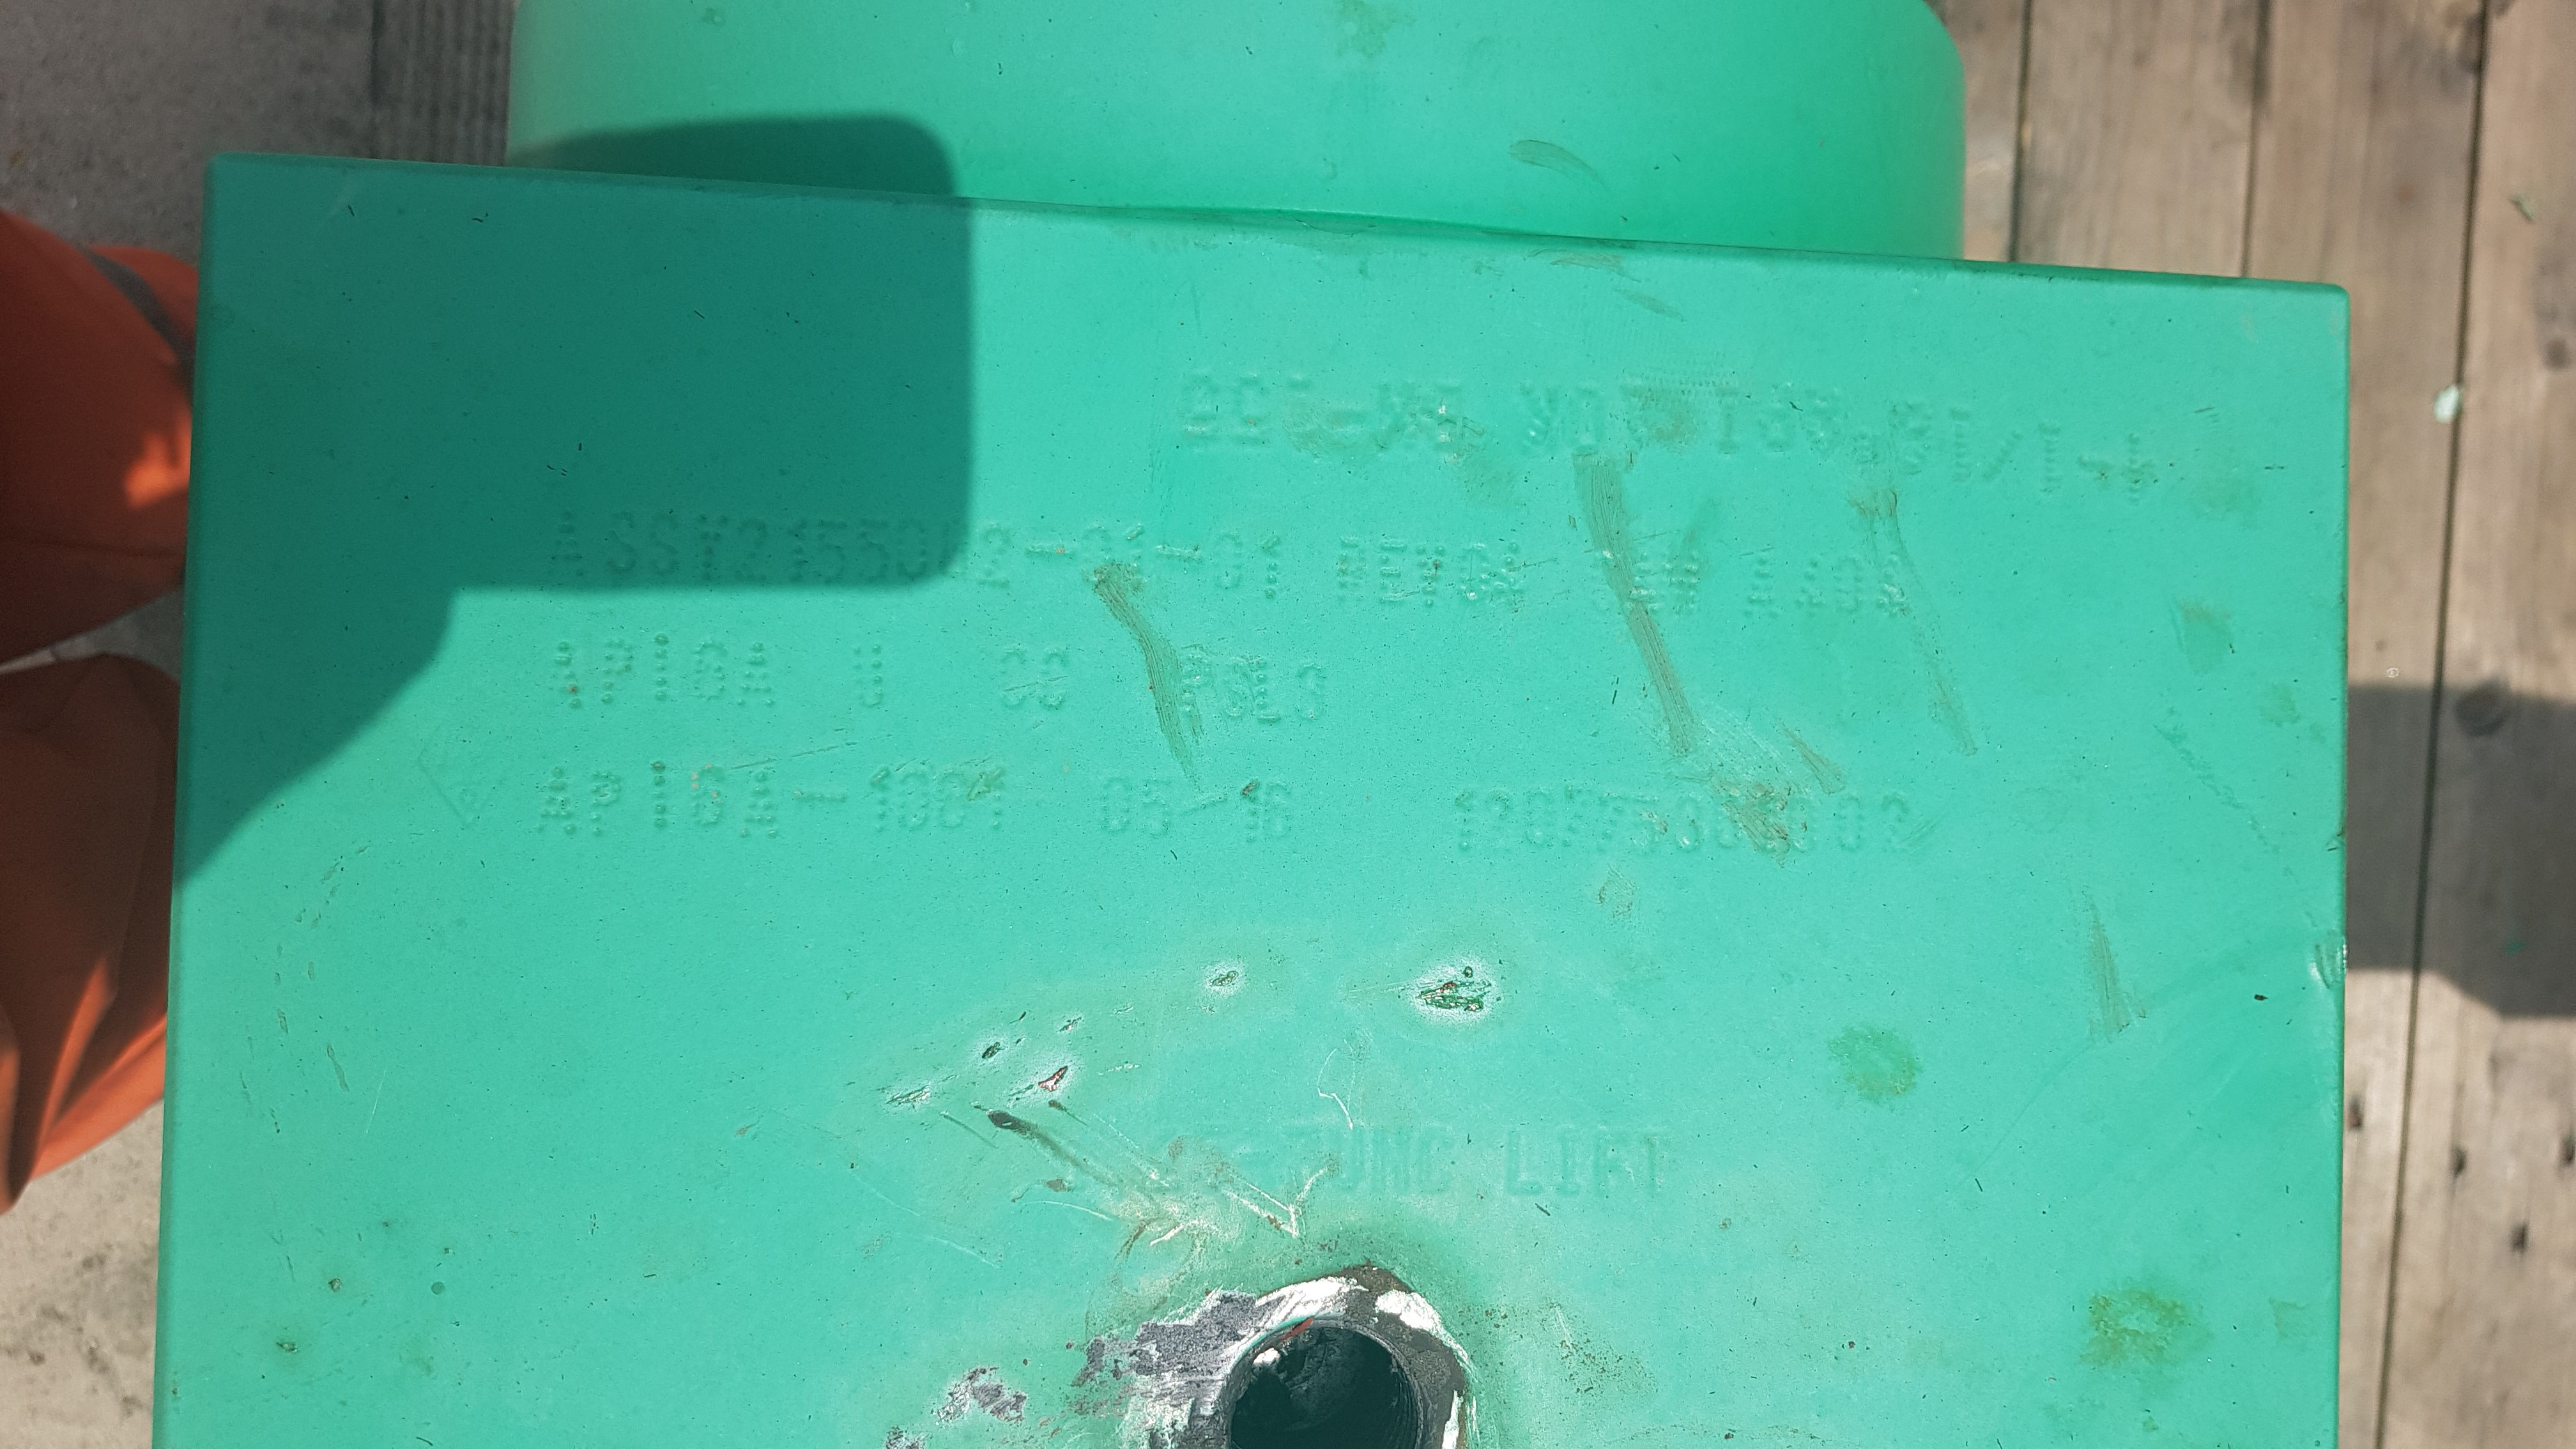character: (538, 501, 607, 593), (685, 501, 738, 598), (524, 759, 579, 844), (600, 501, 649, 589), (738, 628, 787, 715), (640, 757, 690, 844), (582, 764, 633, 844), (849, 508, 895, 596), (596, 632, 642, 720), (545, 633, 593, 718), (1249, 649, 1293, 734), (977, 518, 1024, 596), (1663, 545, 1711, 623), (734, 510, 777, 596), (812, 508, 855, 594), (642, 623, 683, 713), (1371, 536, 1417, 616), (991, 639, 1037, 718), (968, 759, 1021, 828), (1035, 642, 1083, 718), (690, 630, 734, 711), (1741, 548, 1787, 625), (853, 642, 899, 718), (738, 766, 784, 842), (1875, 545, 1916, 630), (1497, 538, 1539, 617), (1332, 534, 1376, 610), (688, 761, 734, 833), (648, 506, 686, 591), (1454, 536, 1499, 610), (1587, 541, 1631, 616), (1131, 770, 1173, 846), (897, 508, 934, 593), (1792, 547, 1829, 632), (892, 761, 934, 835), (1207, 525, 1251, 596), (1122, 520, 1155, 610), (1219, 653, 1256, 734), (1095, 770, 1136, 844), (1173, 651, 1215, 722), (1254, 527, 1293, 603), (1290, 658, 1332, 727), (1415, 540, 1453, 617), (1077, 520, 1118, 591), (1831, 787, 1874, 855), (941, 515, 978, 591), (934, 763, 973, 835), (1628, 782, 1663, 862), (1668, 789, 1709, 858), (1562, 775, 1594, 860), (1875, 791, 1913, 863), (1481, 778, 1516, 855), (1520, 784, 1559, 853), (780, 513, 814, 591), (791, 780, 853, 821), (1148, 531, 1207, 573), (865, 763, 897, 837), (1631, 550, 1667, 614), (1833, 552, 1868, 616), (1261, 780, 1297, 844), (1598, 789, 1629, 860), (1451, 777, 1481, 851), (1173, 787, 1230, 823), (1238, 780, 1265, 849), (1019, 527, 1065, 566)
